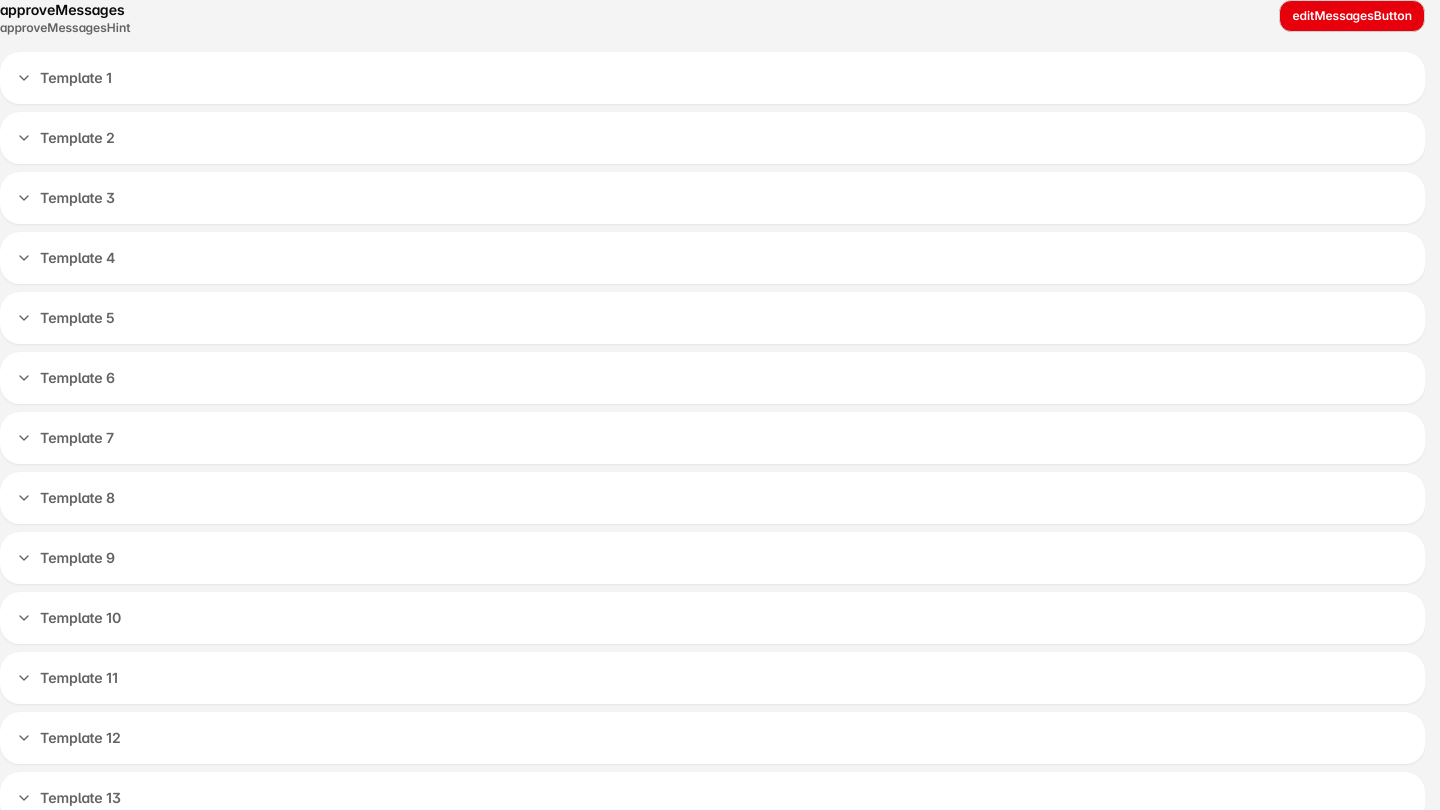
Test: approval and denial message editor › saves all 25 messages in order without local IDs or content changes
Click the button "editMessagesButton": (1352, 16) [1279,0,1425,32]
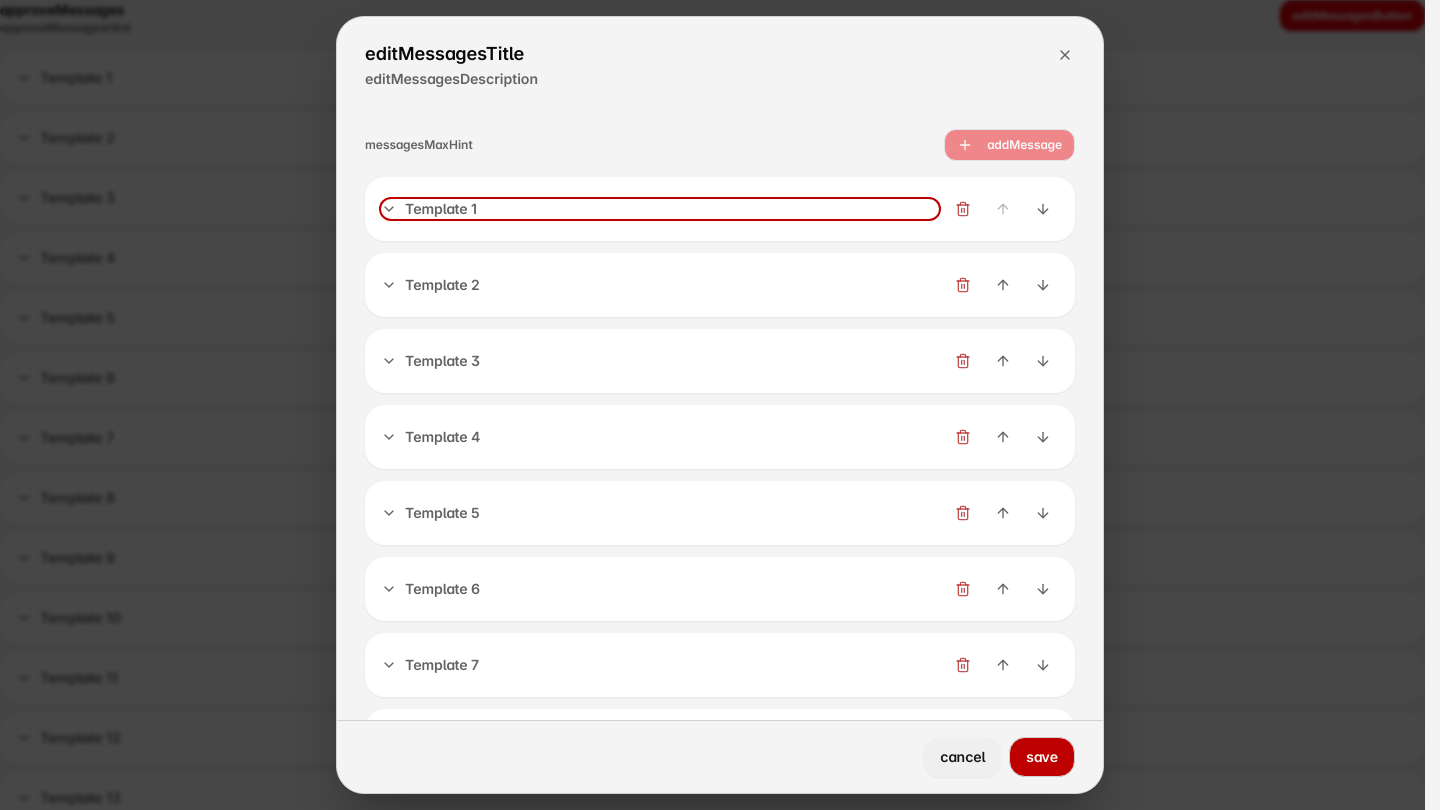
Now the button "addMessage" is disabled, box [944,129,1075,161]
Click the button "save": (1042, 757) [1009,737,1075,777]
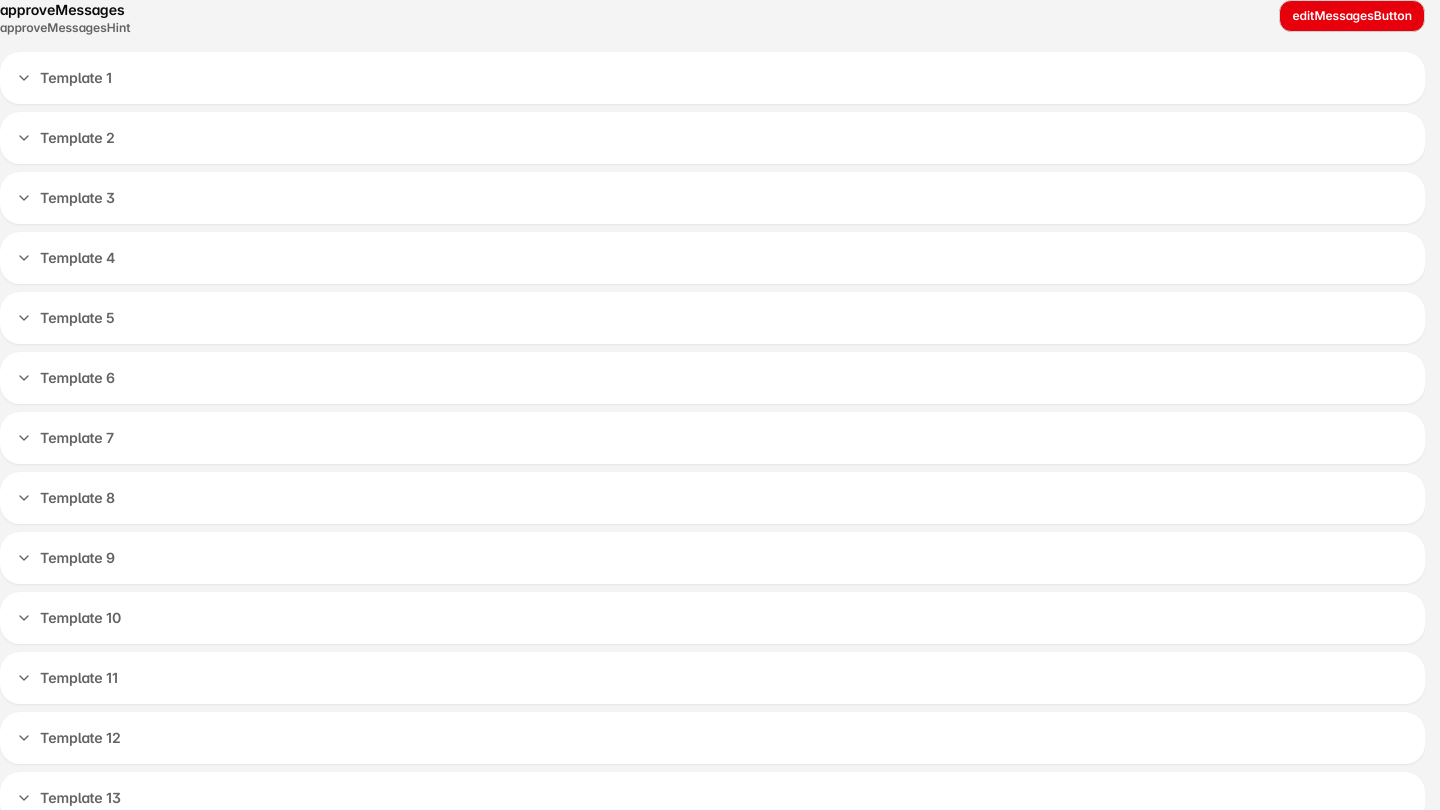
Now the dialog is gone
